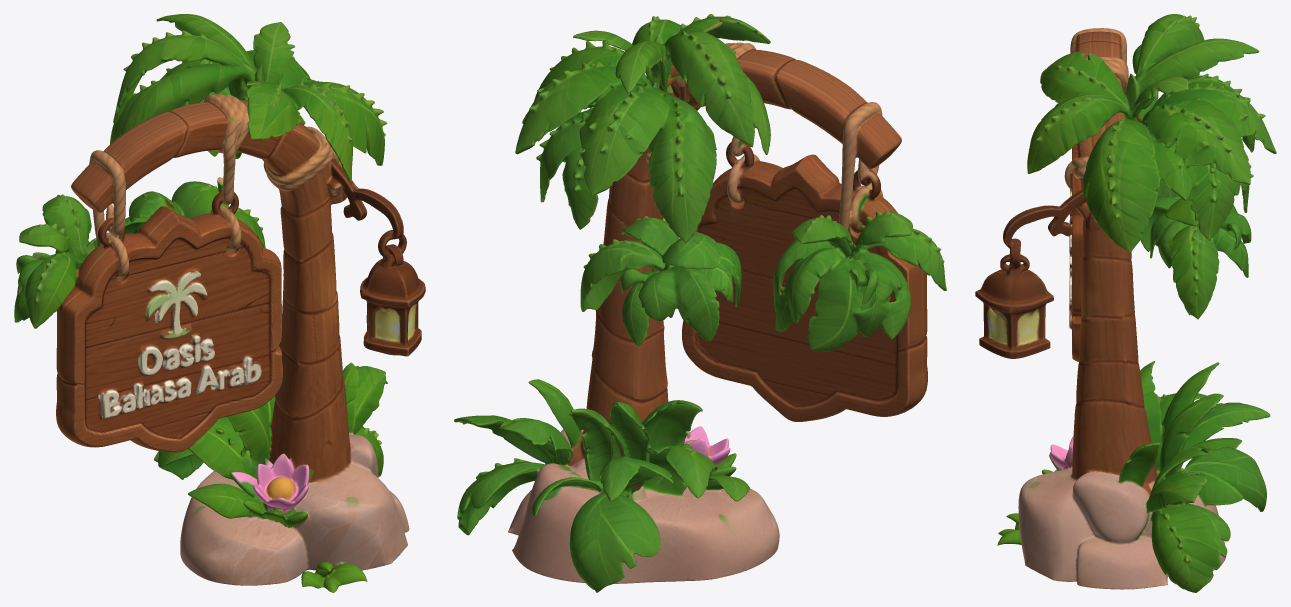
Rendered from meshy-froggy-lantern-oasis-a.glb.
3 renders of one model, left to right at view 1: azimuth 30°, elevation 25°; view 2: azimuth 150°, elevation 25°; view 3: azimuth 270°, elevation 25°, orthographic. The views are drawn at different scales.
Size of the model in its own units: 1.58 by 1.9 by 1.06.
1 material, 1 textured.
